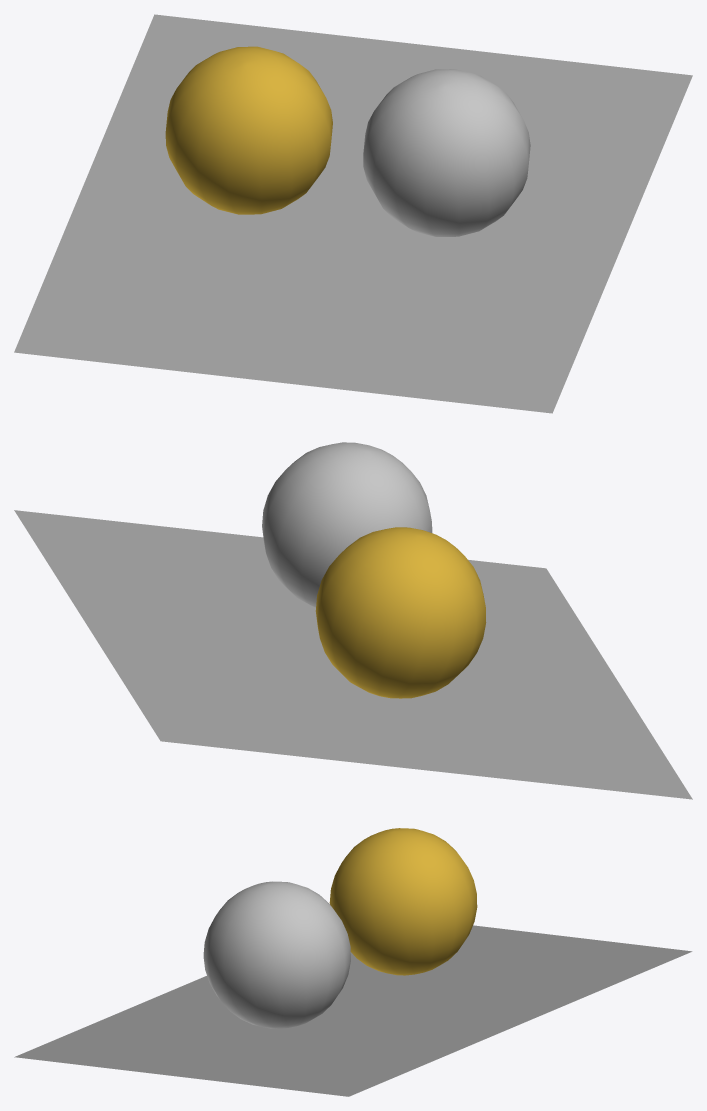
Rendered from sphere_gold_silver.obj.
The picture shows the model from 3 angles, top to bottom: view 1: azimuth 30°, elevation 25°; view 2: azimuth 150°, elevation 25°; view 3: azimuth 270°, elevation 25°; orthographic projection. The views are drawn at different scales.
Parts seen in each view (by area): view 1: Sphere.001; view 2: Sphere.001; view 3: Sphere.001.
Part boxes in pixels (x1,y1,x2,y2): Sphere.001: (14,14,692,413); Sphere.001: (14,442,692,799); Sphere.001: (14,828,692,1096).
Bounding box in the file's own units: 0.8377 × 0.2562 × 0.8377.
